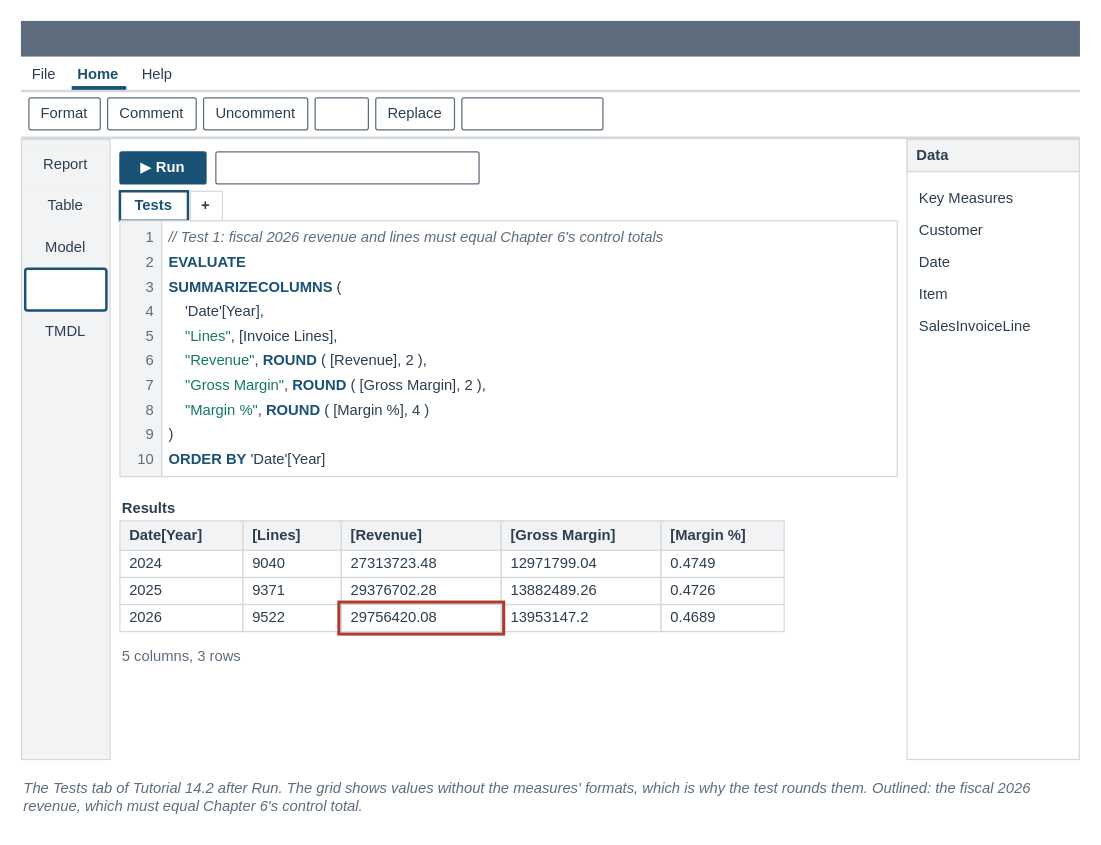
The diagram is 1101 pixels wide and 845 high, and some of its shapes have lost their labels. Here are the shapes that lost their labels. From the top down, the centre of each, then its label:
At [549,38]: "Charles River Reports - Power BI Desktop".
At [341,113]: "Find".
At [532,113]: "Command palette".
At [347,167]: "Update model with changes (0)".
At [65,289]: "DAX query".
